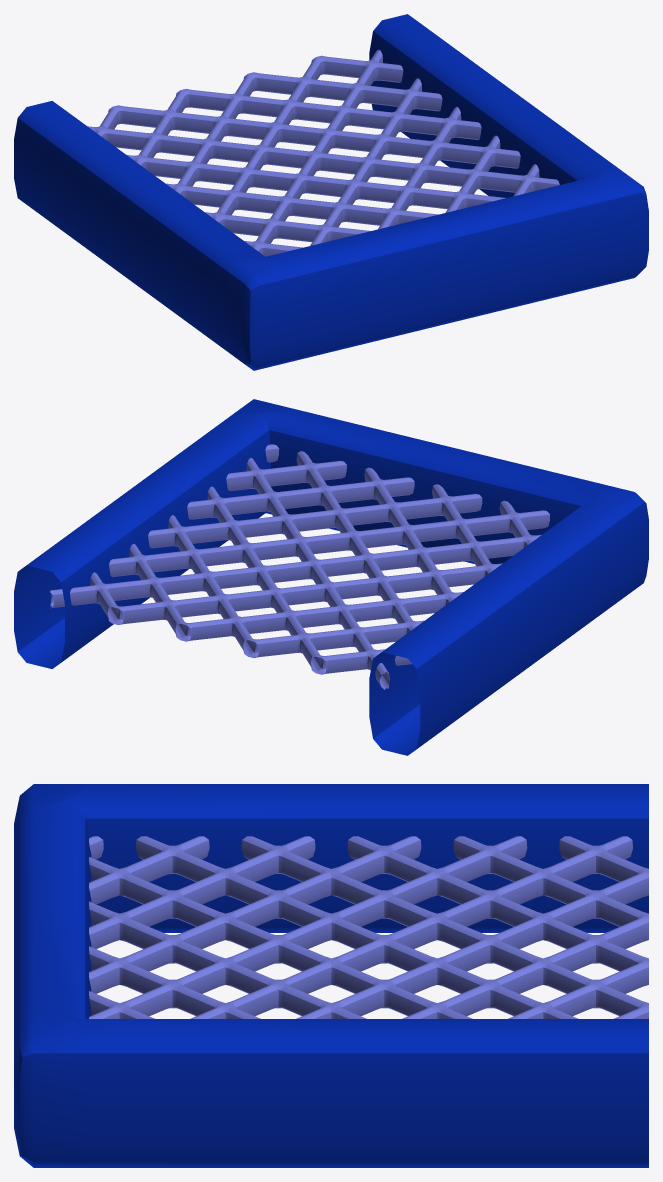
Rendered from a1_L_color_wire_block.fbx.
The picture shows the model from 3 angles, top to bottom: view 1: azimuth 30°, elevation 25°; view 2: azimuth 150°, elevation 25°; view 3: azimuth 270°, elevation 25°; orthographic projection. The views are drawn at different scales.
Parts seen in each view (by area): view 1: L_color_wire_block; view 2: L_color_wire_block; view 3: L_color_wire_block.
Part boxes in pixels (x1,y1,x2,y2): L_color_wire_block: (14,14,648,370); L_color_wire_block: (14,399,648,755); L_color_wire_block: (14,784,648,1167).
Bounding box in the file's own units: 2 × 0.4586 × 2.
